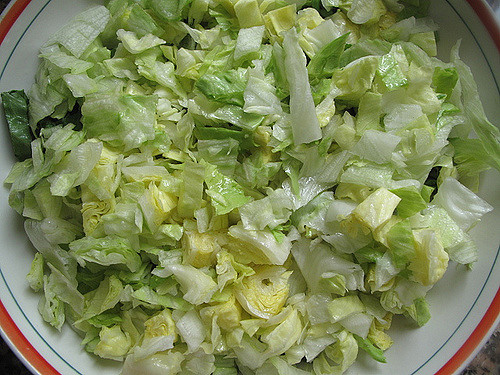chopped lettuce: (58, 17, 422, 352)
